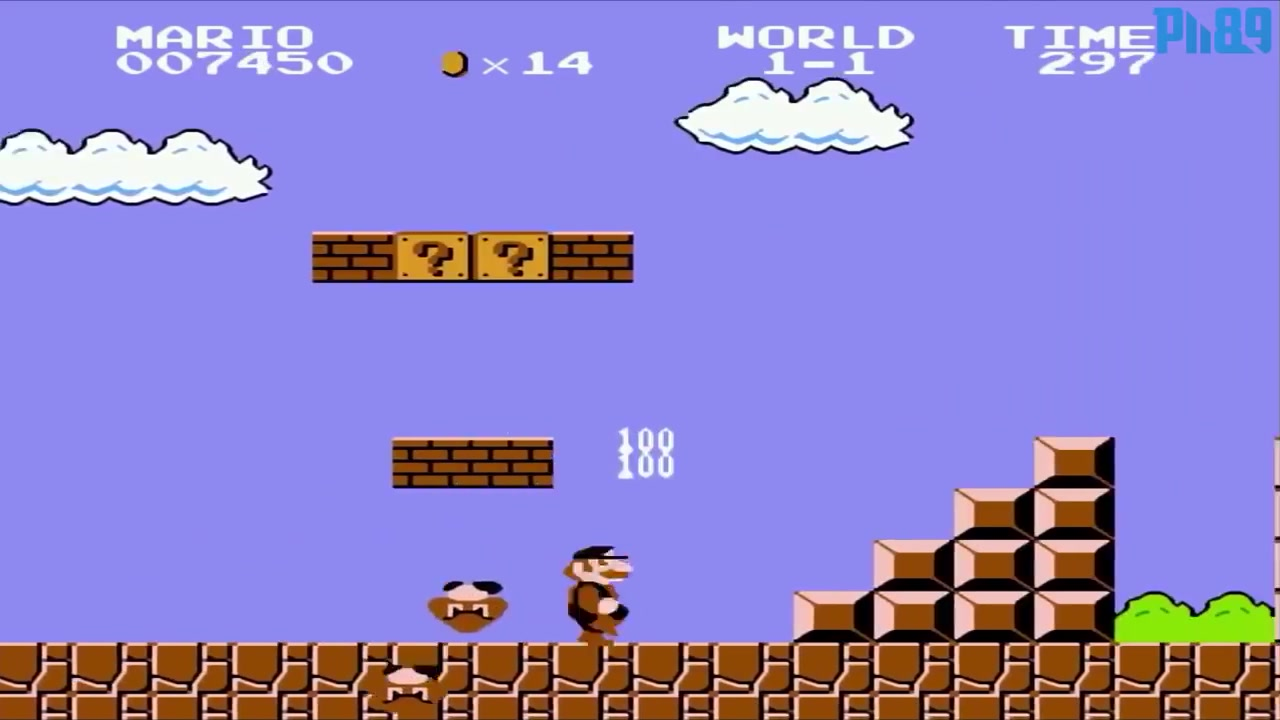mario: (547, 538, 644, 646)
